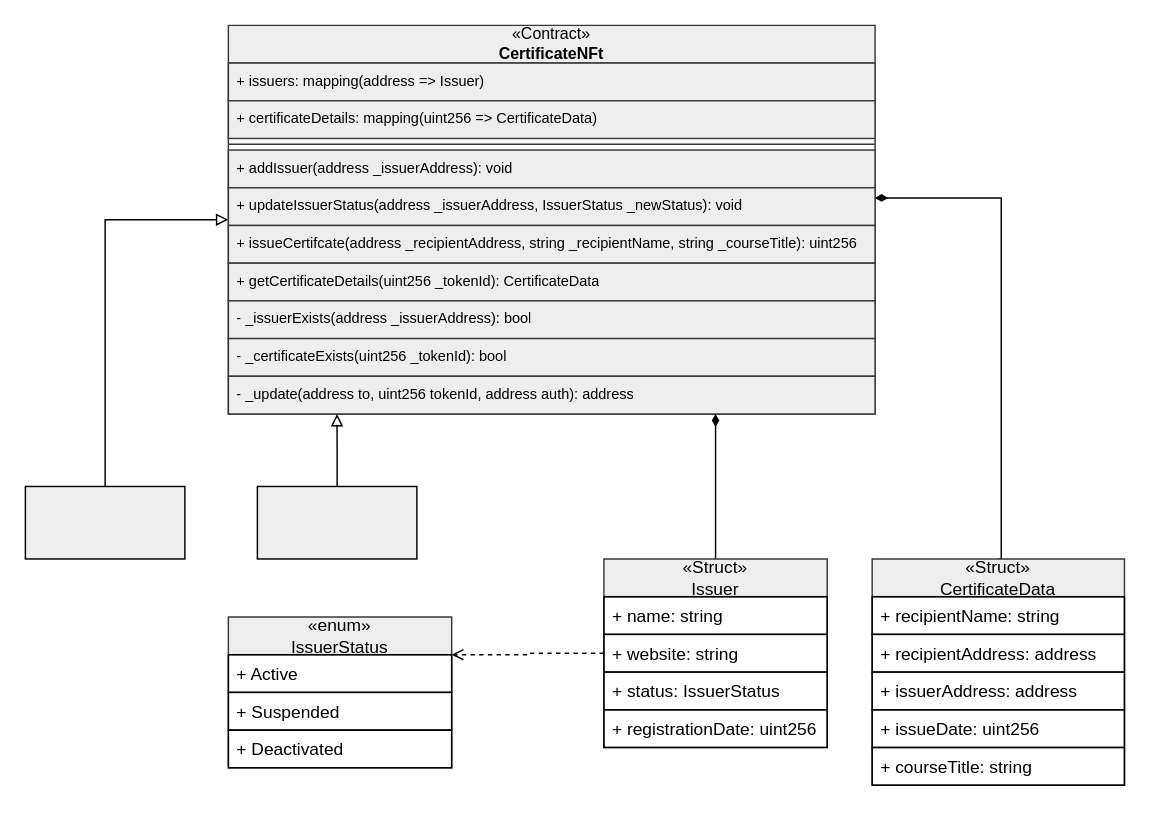
Image size: 1150x815. Some labels were removed from this diagram. Each missing label, with the centre of its shape:
«Contract» AccessControl: point (336, 522)
«Token» ERC721: point (104, 522)
